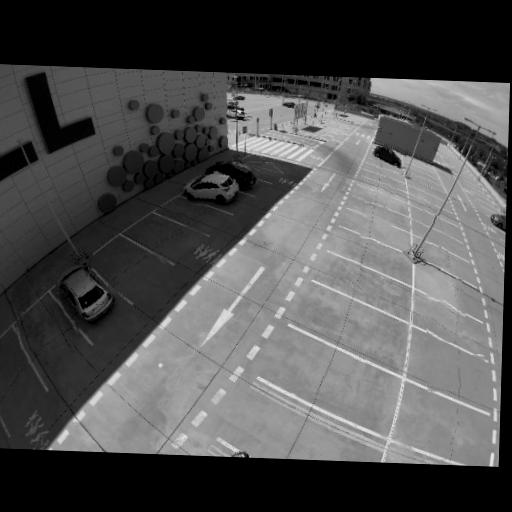busy: (56, 264, 119, 324), (185, 172, 241, 207), (212, 160, 260, 189), (372, 147, 406, 168), (225, 106, 249, 122), (283, 100, 298, 109)
free: (241, 412, 329, 461), (293, 353, 366, 400), (413, 410, 484, 453), (13, 313, 79, 358), (425, 354, 488, 393), (312, 300, 371, 334), (110, 252, 166, 287), (428, 298, 466, 344), (0, 360, 35, 406), (144, 223, 190, 252), (350, 240, 388, 268), (343, 270, 383, 296), (426, 278, 464, 302), (431, 247, 462, 271), (359, 220, 391, 242), (178, 202, 207, 221), (423, 230, 449, 248), (363, 206, 388, 222), (373, 182, 395, 197), (364, 192, 388, 205), (422, 215, 441, 228), (423, 203, 440, 215), (375, 177, 393, 188), (375, 166, 397, 173), (419, 186, 434, 195), (421, 196, 434, 204), (414, 172, 427, 178), (415, 180, 426, 184)
